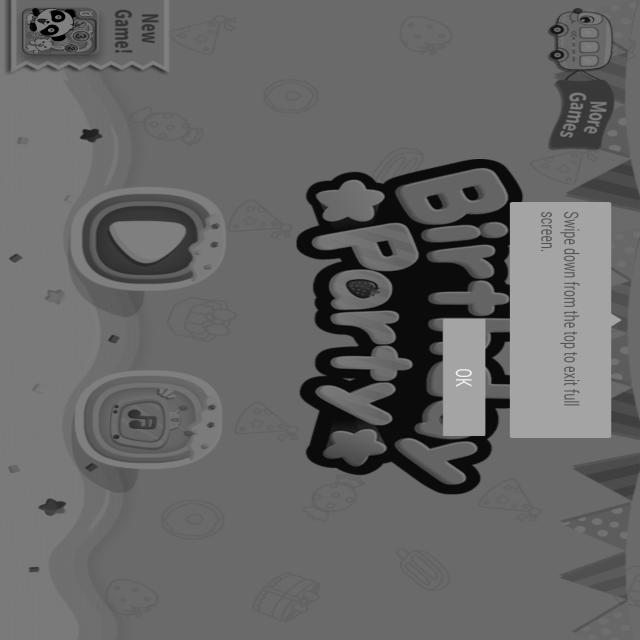Button: (437, 315, 488, 436)
ImageView: (77, 184, 238, 300), (94, 362, 228, 476)
TextView: (304, 180, 413, 468), (531, 204, 596, 412), (114, 0, 171, 64), (566, 79, 608, 144)
